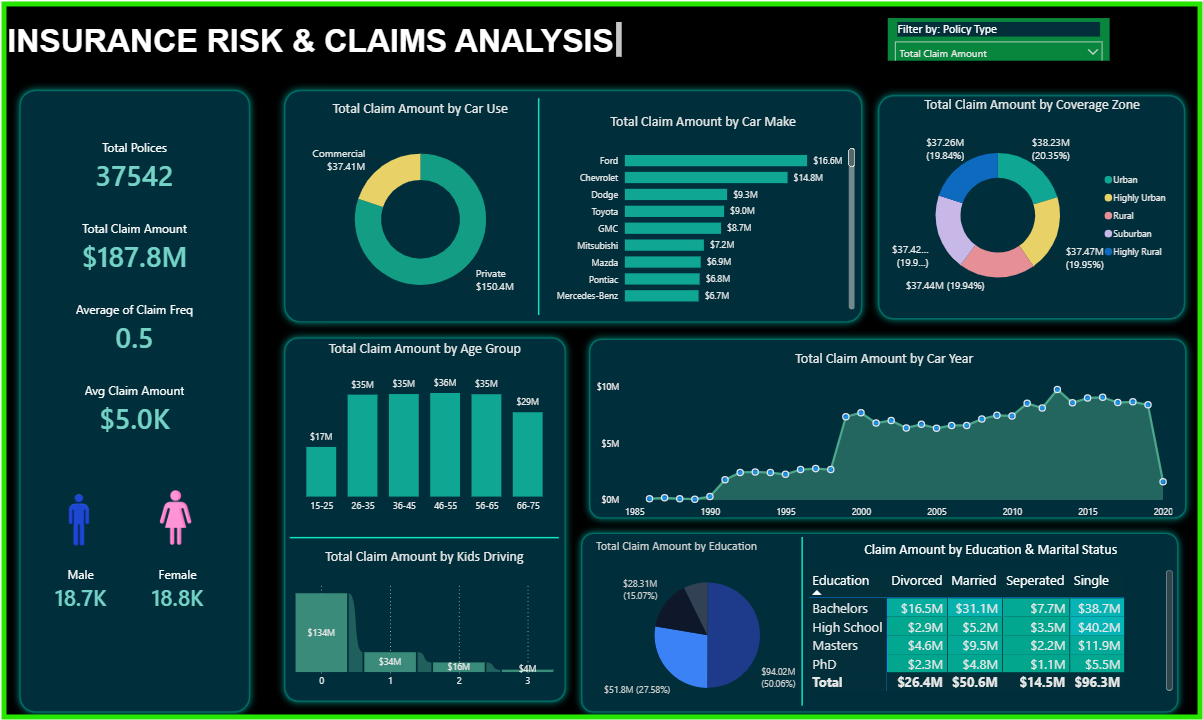

What the dashboard file says about the page in this screenshot:
{"tool":"powerbi","page":{"name":"Page 1","canvas":[1600,950],"ordinal":0},"visuals":[{"type":"textbox","box":[0,16,831.4,57.8],"z":0},{"type":"shape","box":[14.2,101.5,327.6,849.2],"z":1000},{"type":"cardVisual","fields":{"Data":["insurance_data_car.Total Polices","insurance_data_car.Total Claim Amount","Avg(insurance_data_car.Claim Freq)","insurance_data_car.Avg Claim Amount"]},"box":[42.7,146,270,460],"z":2000},{"type":"cardVisual","fields":{"Data":["insurance_data_car.Male Count","insurance_data_car.Female Count"]},"box":[28.5,721,284.8,110.4],"z":3000},{"type":"image","box":[28.5,623.1,150,120],"z":4000},{"type":"image","box":[195.8,640.9,73,80.1],"z":5000},{"type":"slicer","fields":{"Values":["Filter by: Policy Type.Filter by: Policy Type"]},"box":[1180.3,16,295.5,57],"z":6000},{"type":"shape","box":[366.7,101.5,790,330],"z":7000},{"type":"donutChart","fields":{"Category":["insurance_data_car.Car Use"],"Y":["insurance_data_car.Total Claim Amount"]},"box":[388.1,124.6,340,285],"z":8000},{"type":"clusteredBarChart","fields":{"Category":["insurance_data_car.Car Make"],"Y":["insurance_data_car.Total Claim Amount"]},"box":[728.1,142.4,413,267],"z":9000},{"type":"shape","box":[1157.1,108.6,429,318.7],"z":10000},{"type":"donutChart","fields":{"Category":["insurance_data_car.Coverage Zone"],"Y":["insurance_data_car.Total Claim Amount"]},"box":[1180.3,119.3,384.5,284.8],"z":11000},{"type":"shape","box":[366.7,430.8,395.2,505.6],"z":12000},{"type":"clusteredColumnChart","fields":{"Category":["insurance_data_car.Age Group"],"Y":["insurance_data_car.Total Claim Amount"]},"box":[379.2,443.3,370,240],"z":13000},{"type":"ribbonChart","fields":{"Category":["insurance_data_car.Kids Driving"],"Y":["insurance_data_car.Total Claim Amount"]},"box":[384.5,721,357.8,195.8],"z":14000},{"type":"shape","box":[772.6,432.6,815.3,260],"z":15000},{"type":"areaChart","fields":{"Category":["insurance_data_car.Car Year"],"Y":["insurance_data_car.Total Claim Amount"]},"box":[787.3,457,777.7,234.3],"z":16000},{"type":"shape","box":[761.9,690.7,815.3,260],"z":17000},{"type":"pieChart","fields":{"Category":["insurance_data_car.Education"],"Y":["insurance_data_car.Total Claim Amount"]},"box":[786.9,708.5,306.2,227.9],"z":18000},{"type":"pivotTable","title":"Claim Amount by Education & Marital Status","fields":{"Columns":["insurance_data_car.Marital Status"],"Rows":["insurance_data_car.Education"],"Values":["insurance_data_car.Total Claim Amount"]},"box":[1069.9,712.1,494.9,204.7],"z":19000},{"type":"shape","box":[688.9,122.8,53.4,288.4],"z":19001},{"type":"shape","box":[384.5,660.5,357.8,94.4],"z":19002},{"type":"shape","box":[1039.7,706.7,53.4,224.3],"z":19003}]}

Visuals, with their boxes in screenshot pixels (x1, y1, x2, y2), scaled from the page's 1600x950 canvas onto the 1203x720 screenshot:
textbox: x1=0 y1=12 x2=625 y2=56
shape: x1=11 y1=77 x2=257 y2=719
cardVisual - insurance_data_car.Total Polices x insurance_data_car.Total Claim Amount: x1=32 y1=111 x2=235 y2=459
cardVisual - insurance_data_car.Male Count x insurance_data_car.Female Count: x1=21 y1=546 x2=236 y2=630
image: x1=21 y1=472 x2=134 y2=563
image: x1=147 y1=486 x2=202 y2=546
slicer - Filter by: Policy Type.Filter by: Policy Type: x1=887 y1=12 x2=1110 y2=55
shape: x1=276 y1=77 x2=870 y2=327
donutChart - insurance_data_car.Car Use x insurance_data_car.Total Claim Amount: x1=292 y1=94 x2=547 y2=310
clusteredBarChart - insurance_data_car.Car Make x insurance_data_car.Total Claim Amount: x1=547 y1=108 x2=858 y2=310
shape: x1=870 y1=82 x2=1193 y2=324
donutChart - insurance_data_car.Coverage Zone x insurance_data_car.Total Claim Amount: x1=887 y1=90 x2=1177 y2=306
shape: x1=276 y1=327 x2=573 y2=710
clusteredColumnChart - insurance_data_car.Age Group x insurance_data_car.Total Claim Amount: x1=285 y1=336 x2=563 y2=518
ribbonChart - insurance_data_car.Kids Driving x insurance_data_car.Total Claim Amount: x1=289 y1=546 x2=558 y2=695
shape: x1=581 y1=328 x2=1194 y2=525
areaChart - insurance_data_car.Car Year x insurance_data_car.Total Claim Amount: x1=592 y1=346 x2=1177 y2=524
shape: x1=573 y1=523 x2=1186 y2=719
pieChart - insurance_data_car.Education x insurance_data_car.Total Claim Amount: x1=592 y1=537 x2=822 y2=710
"Claim Amount by Education & Marital Status" pivotTable: x1=804 y1=540 x2=1177 y2=695
shape: x1=518 y1=93 x2=558 y2=312
shape: x1=289 y1=501 x2=558 y2=572
shape: x1=782 y1=536 x2=822 y2=706
